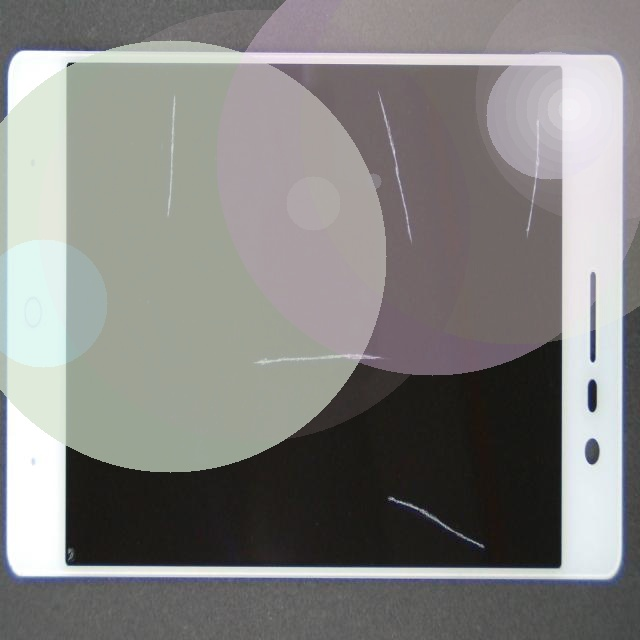scratch: (307, 300, 640, 640), (181, 0, 575, 203), (237, 178, 640, 371), (281, 153, 506, 491), (91, 0, 247, 188)
